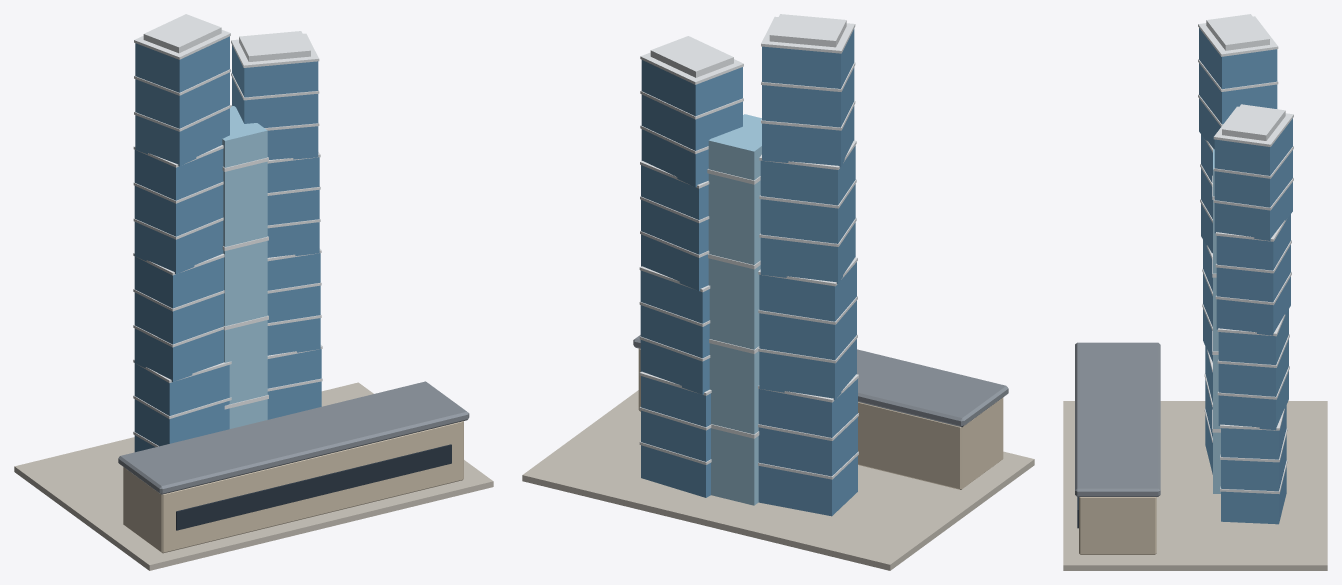
File: ecb_tower.glb
3 renders of one model, left to right at view 1: azimuth 30°, elevation 25°; view 2: azimuth 150°, elevation 25°; view 3: azimuth 270°, elevation 25°, orthographic. The views are drawn at different scales.
Visible parts, largest first — view 1: building; view 2: building; view 3: building.
Part boxes in pixels (<box>): building: <box>14,14,493,570</box>; building: <box>522,14,1034,570</box>; building: <box>1063,14,1327,570</box>.
Bounding box in the file's own units: 5 × 6.18 × 3.4.
